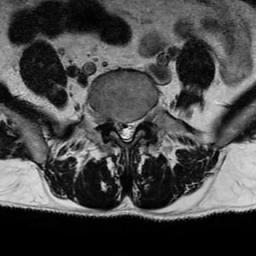CCS_normal: (122, 112, 129, 147)
LFS_stenosis: (136, 109, 143, 130)
LLS_normal: (129, 112, 136, 144)
RFS_stenosis: (106, 109, 115, 132)
RLS_normal: (115, 110, 122, 144)
